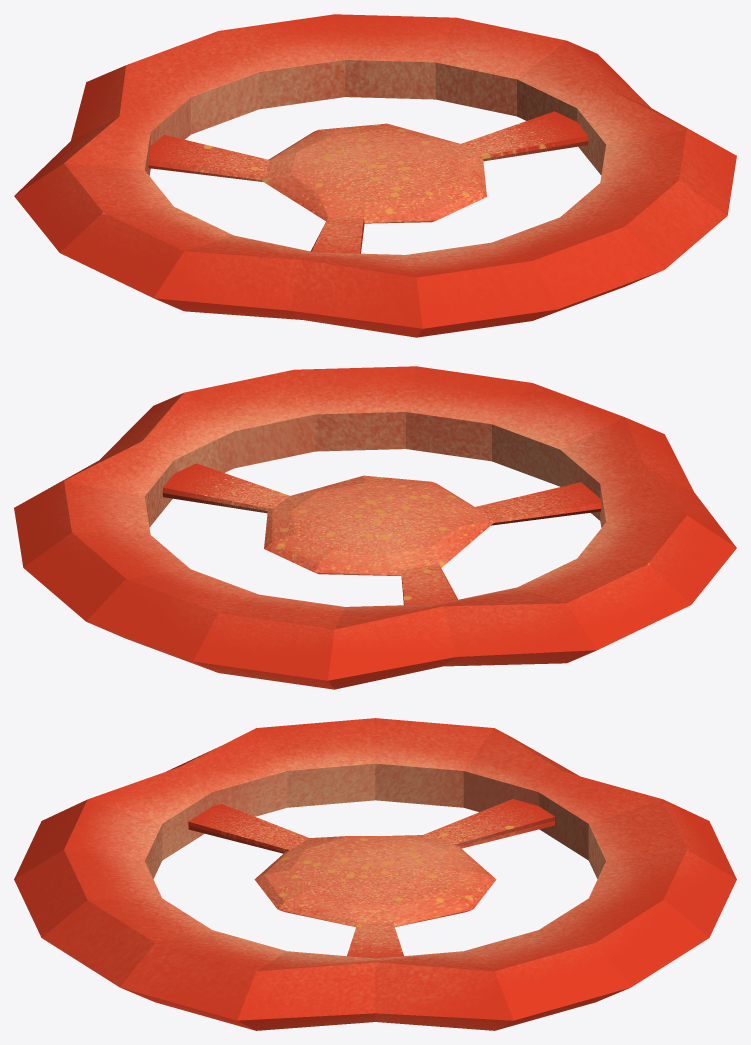
Rendered from PIMENTON PICADO 1.fbx.
3 views of the same model, one above another, from view 1: azimuth 30°, elevation 25°; view 2: azimuth 150°, elevation 25°; view 3: azimuth 270°, elevation 25° (orthographic).
Visible parts, largest first — view 1: Torus.001, Sphere; view 2: Torus.001, Sphere; view 3: Torus.001, Sphere.
Part boxes in pixels (x1=…): Torus.001: x1=14, y1=14, x2=736, y2=337; Sphere: x1=148, y1=111, x2=588, y2=253; Torus.001: x1=14, y1=366, x2=736, y2=689; Sphere: x1=162, y1=463, x2=601, y2=605; Torus.001: x1=14, y1=718, x2=736, y2=1030; Sphere: x1=188, y1=799, x2=554, y2=958.
Bounding box in the file's own units: 240 × 22.71 × 250.
